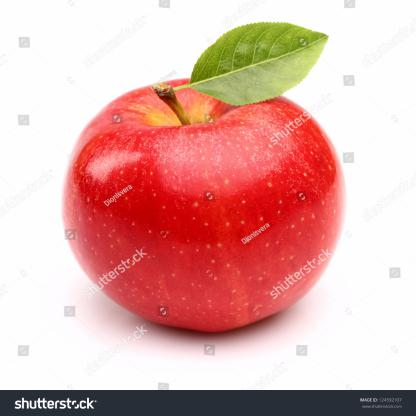apple leaf: (182, 19, 340, 103)
